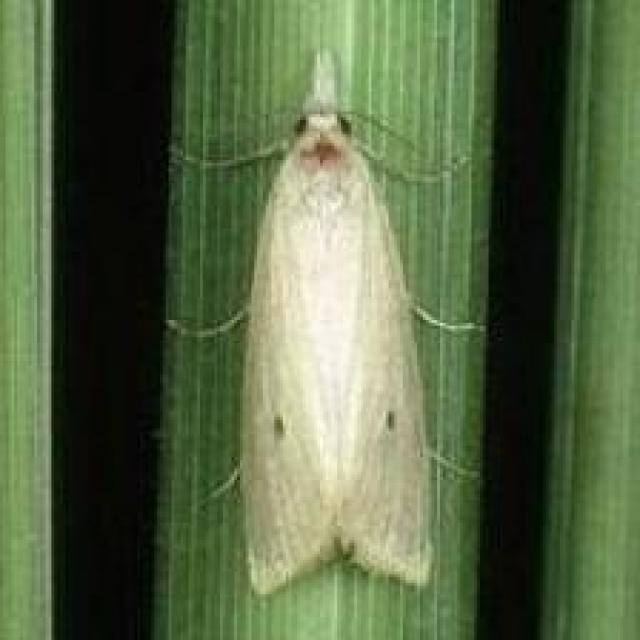yellow-stem-borer: (151, 43, 546, 599)
